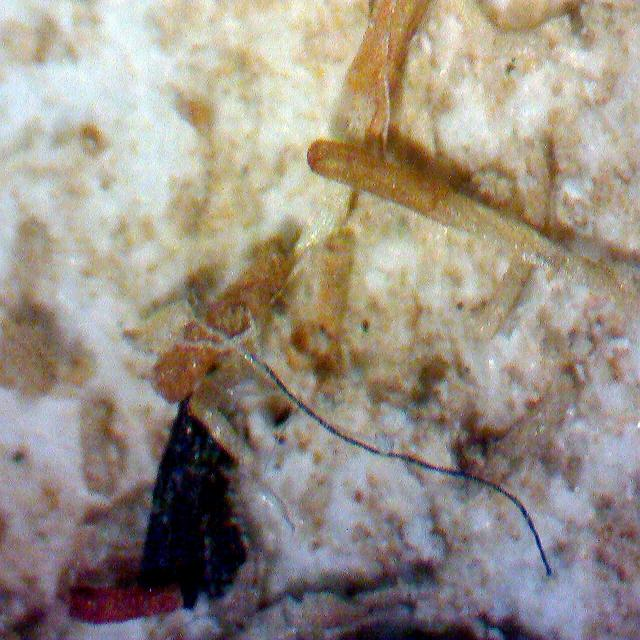microplastic: (233, 332, 553, 579), (66, 582, 182, 627)
